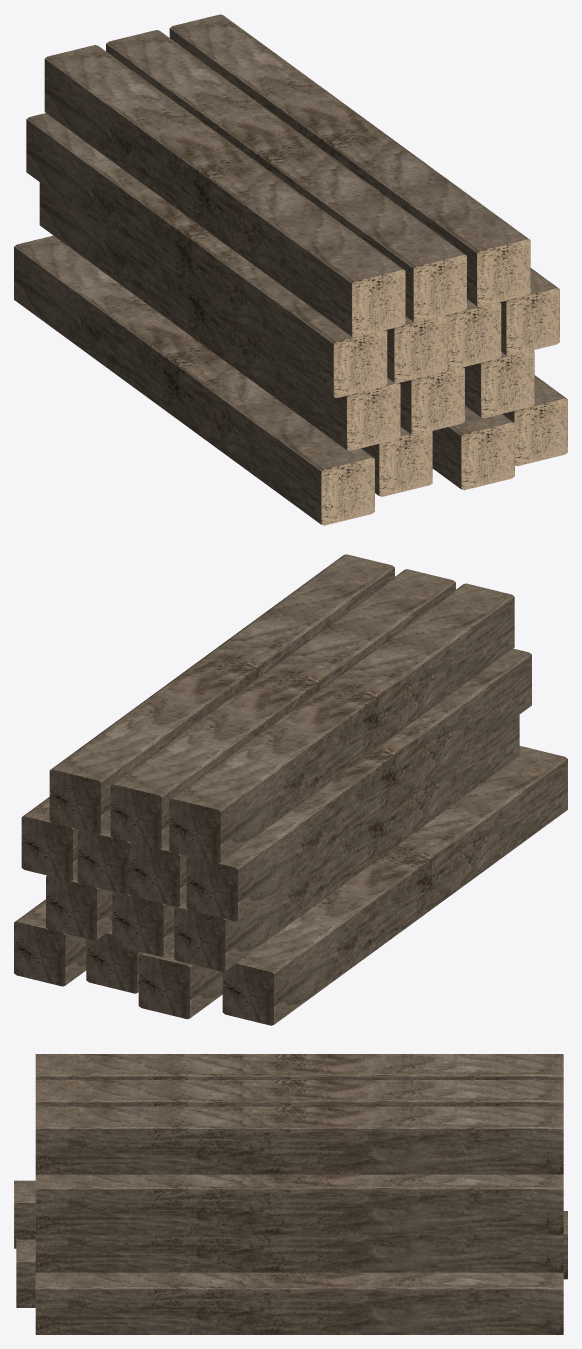
The model's file is Wood.fbx.
The picture shows the model from 3 angles, top to bottom: view 1: azimuth 30°, elevation 25°; view 2: azimuth 150°, elevation 25°; view 3: azimuth 270°, elevation 25°; orthographic projection. The views are drawn at different scales.
Visible parts, largest first — view 1: Wood; view 2: Wood; view 3: Wood.
Boxes of the visible parts, x1,y1,x2,y2 form: Wood: [14, 14, 567, 525]; Wood: [14, 554, 567, 1025]; Wood: [14, 1054, 567, 1334].
Bounding box in the file's own units: 96.68 × 79.99 × 208.
